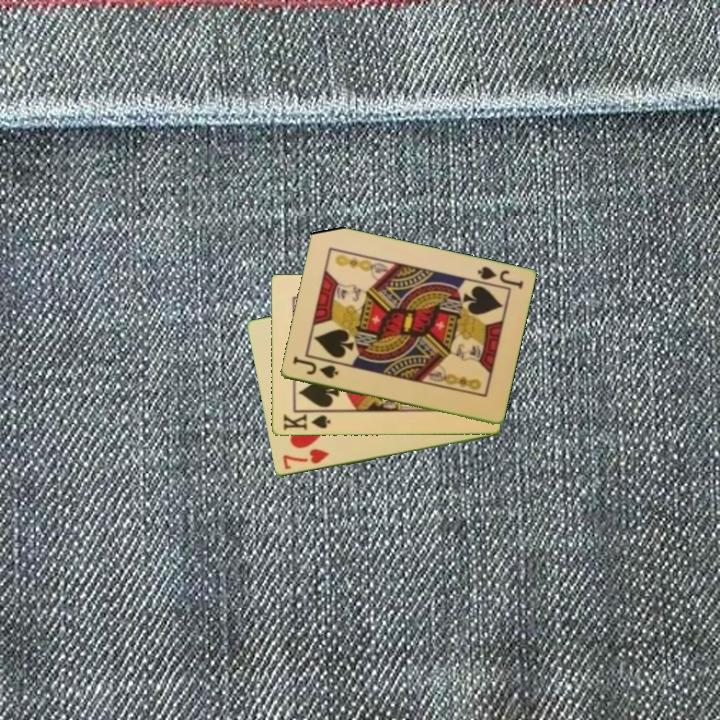7h: (279, 445, 332, 473)
Js: (474, 263, 526, 292), (289, 355, 341, 382)
Ks: (279, 409, 333, 433)
